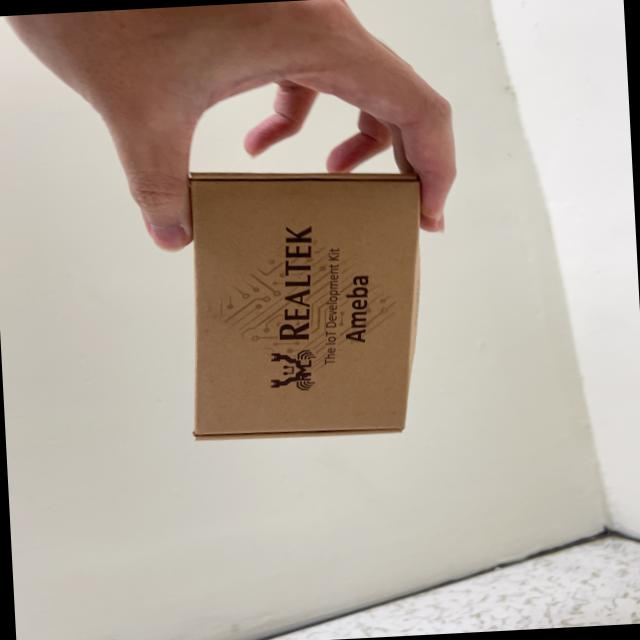box: (173, 148, 450, 464)
